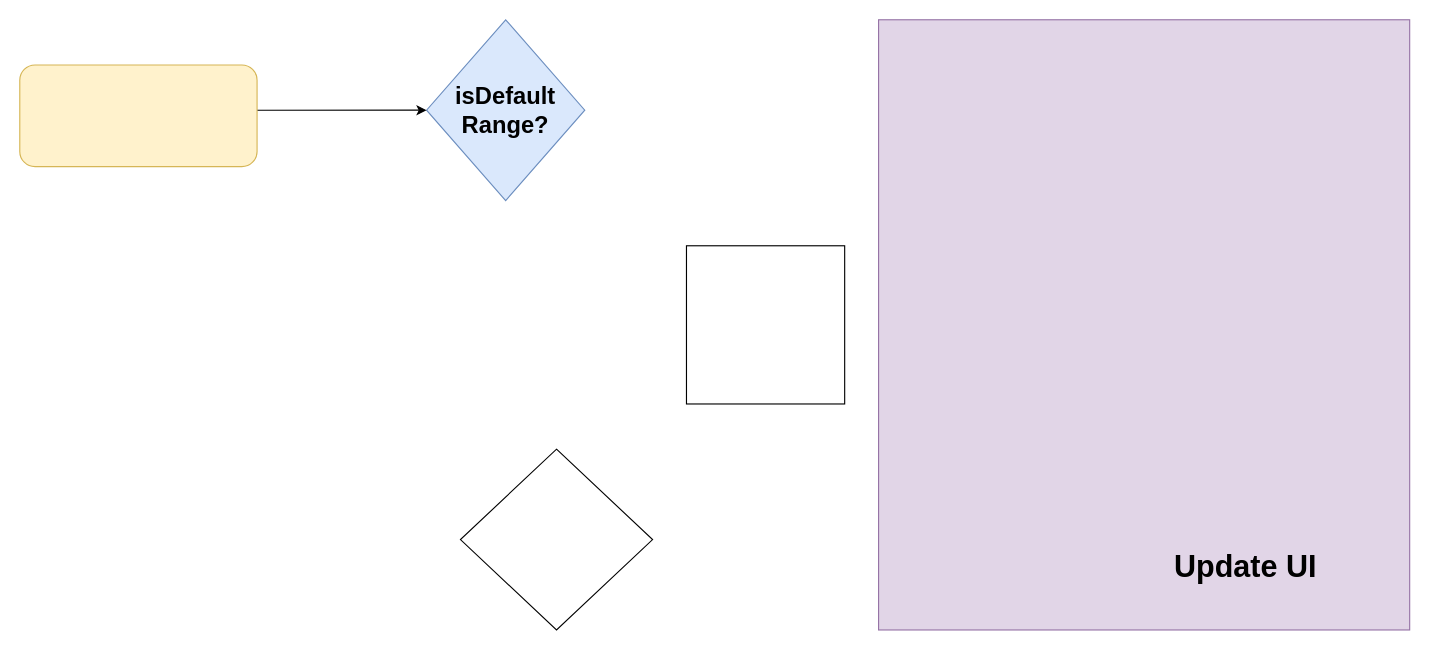
Some shapes in this 1429 by 650 pixel diagram are drawn without their labels. The shapes that lost their labels are listed below. From the top down, each one's box as (x1, y1, x2, y2) in pixels, then its label:
(19, 64, 257, 167): Guess Button
(459, 448, 653, 630): Compare user guess
